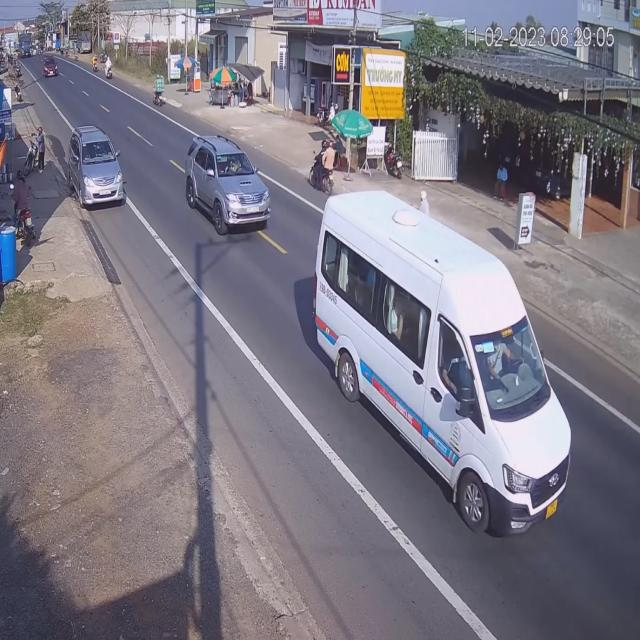car: (186, 138, 271, 238), (68, 128, 124, 211), (42, 53, 57, 79)
motorbike: (307, 137, 331, 195), (152, 74, 164, 110)
truck: (309, 179, 569, 542)
